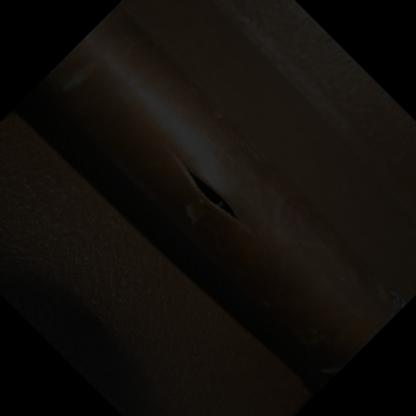burst: (171, 148, 262, 237)
